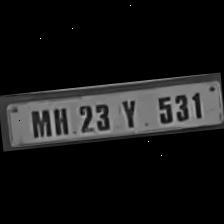1: (187, 88, 206, 120)
2: (72, 100, 96, 134)
3: (91, 98, 114, 132), (170, 91, 192, 123)
5: (150, 92, 176, 125)
H: (50, 103, 72, 136)
M: (27, 105, 52, 138)
Y: (115, 94, 143, 130)
